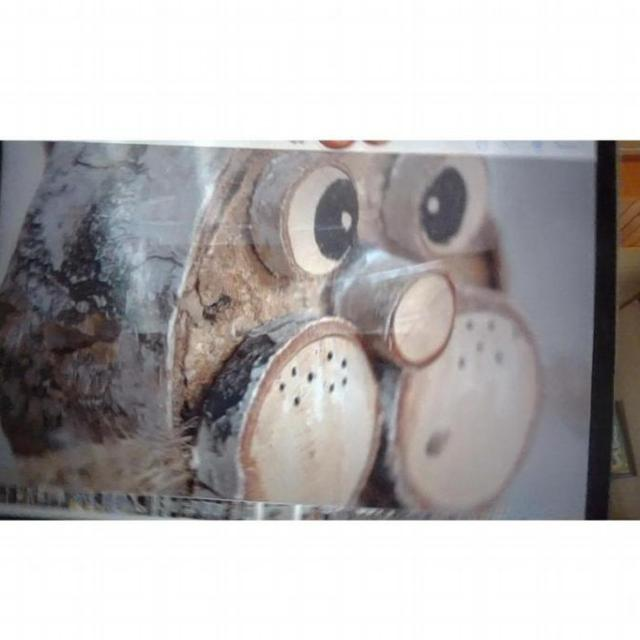device: (0, 141, 620, 519)
